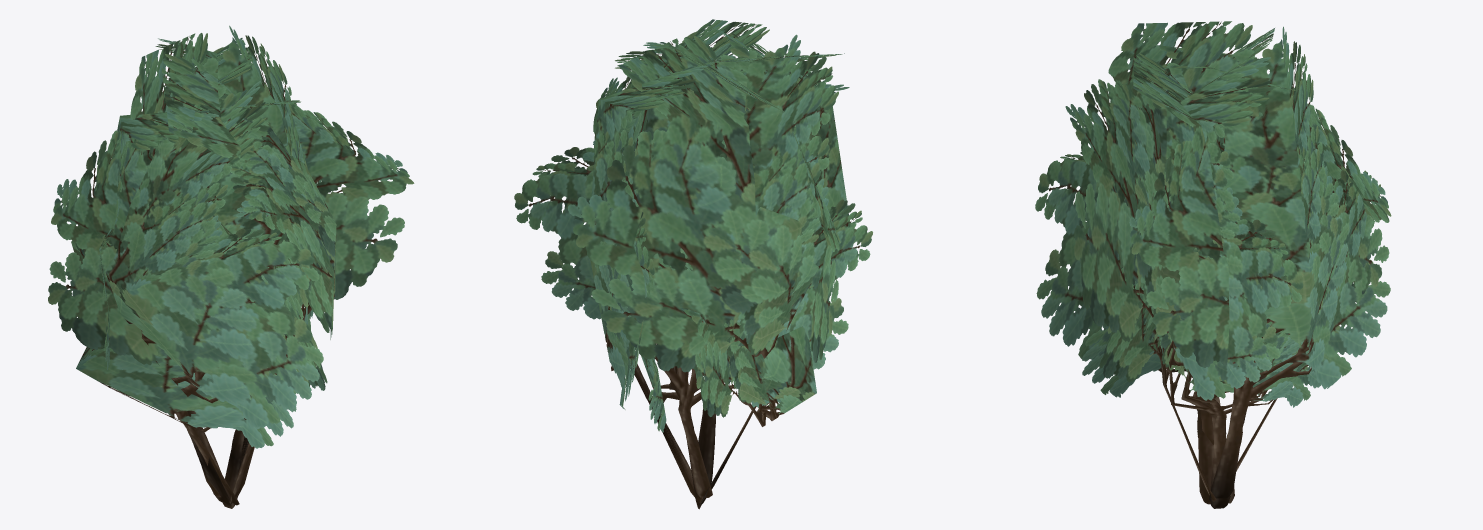
Rendered from Maple_bush.fbx.
3 renders of one model, left to right at view 1: azimuth 30°, elevation 25°; view 2: azimuth 150°, elevation 25°; view 3: azimuth 270°, elevation 25°, orthographic. The views are drawn at different scales.
Parts seen in each view (by area): view 1: Maple_bush; view 2: Maple_bush; view 3: Maple_bush.
Boxes of the visible parts, x1,y1,x2,y2 form: Maple_bush: (48,25,414,508); Maple_bush: (514,19,872,509); Maple_bush: (1035,21,1391,508).
Bounding box in the file's own units: 127 × 170 × 161.
